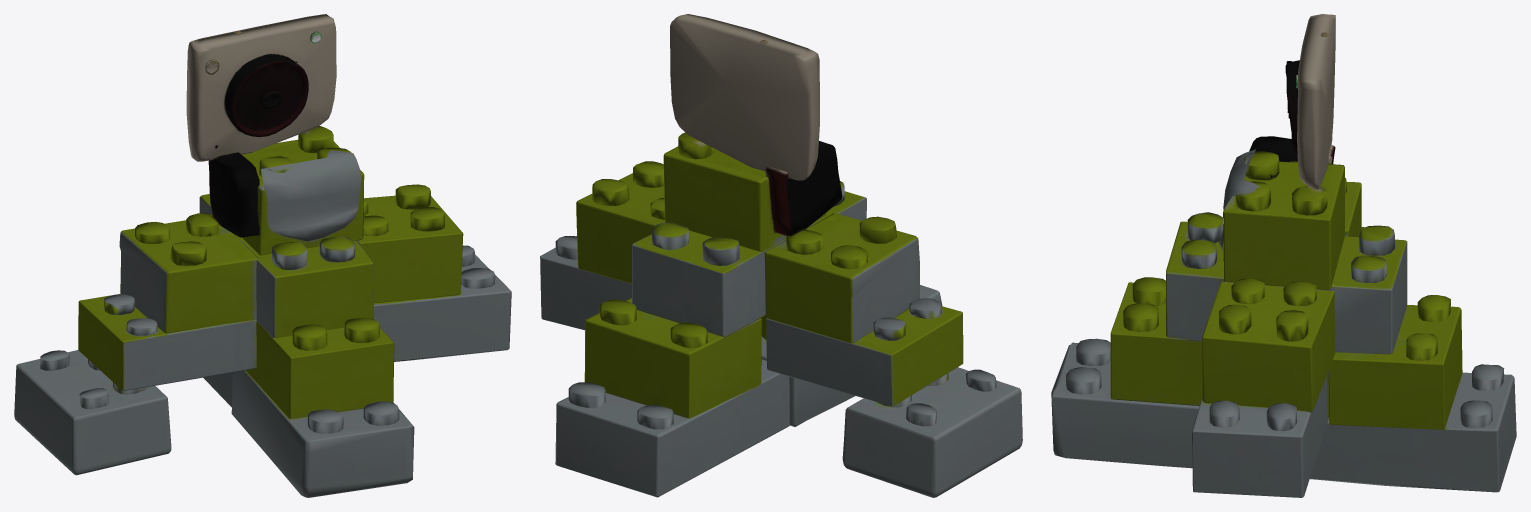
The model's file is object_3_asset_42e30d70.glb.
3 renders of one model, left to right at view 1: azimuth 30°, elevation 25°; view 2: azimuth 150°, elevation 25°; view 3: azimuth 270°, elevation 25°, orthographic. The views are drawn at different scales.
Visible parts, largest first — view 1: tripo_node_8807ed90-b462-4c82-898b-62d423d79796; view 2: tripo_node_8807ed90-b462-4c82-898b-62d423d79796; view 3: tripo_node_8807ed90-b462-4c82-898b-62d423d79796.
Boxes of the visible parts, x1,y1,x2,y2 form: tripo_node_8807ed90-b462-4c82-898b-62d423d79796: [14, 14, 511, 497]; tripo_node_8807ed90-b462-4c82-898b-62d423d79796: [540, 14, 1022, 497]; tripo_node_8807ed90-b462-4c82-898b-62d423d79796: [1051, 14, 1516, 497].
Bounding box in the file's own units: 0.998 × 0.8262 × 0.873.
Materials: 1 (1 with a texture image).
